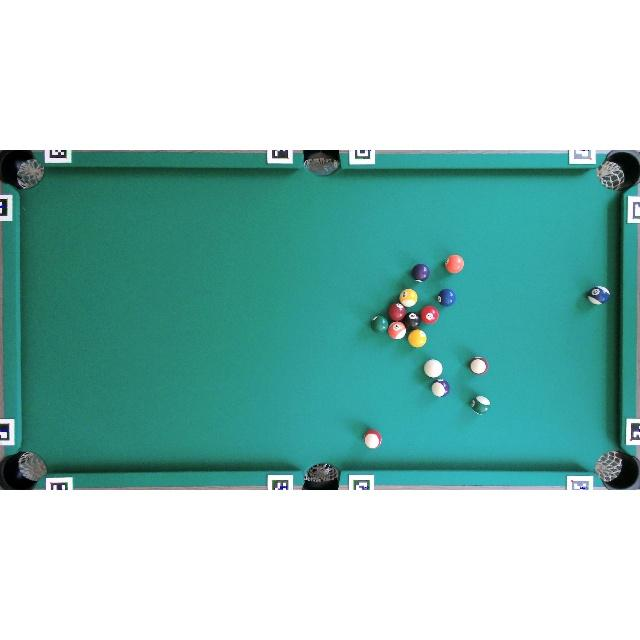cue ball: (423, 358, 443, 378)
other: (588, 286, 610, 304), (408, 328, 427, 348), (469, 356, 489, 375), (445, 254, 464, 274), (437, 288, 456, 307), (411, 263, 430, 282), (363, 429, 382, 448), (470, 396, 490, 414), (399, 289, 418, 307), (421, 306, 439, 324), (388, 303, 406, 321), (432, 379, 449, 397), (388, 322, 406, 339), (371, 315, 388, 333), (404, 312, 421, 329)
